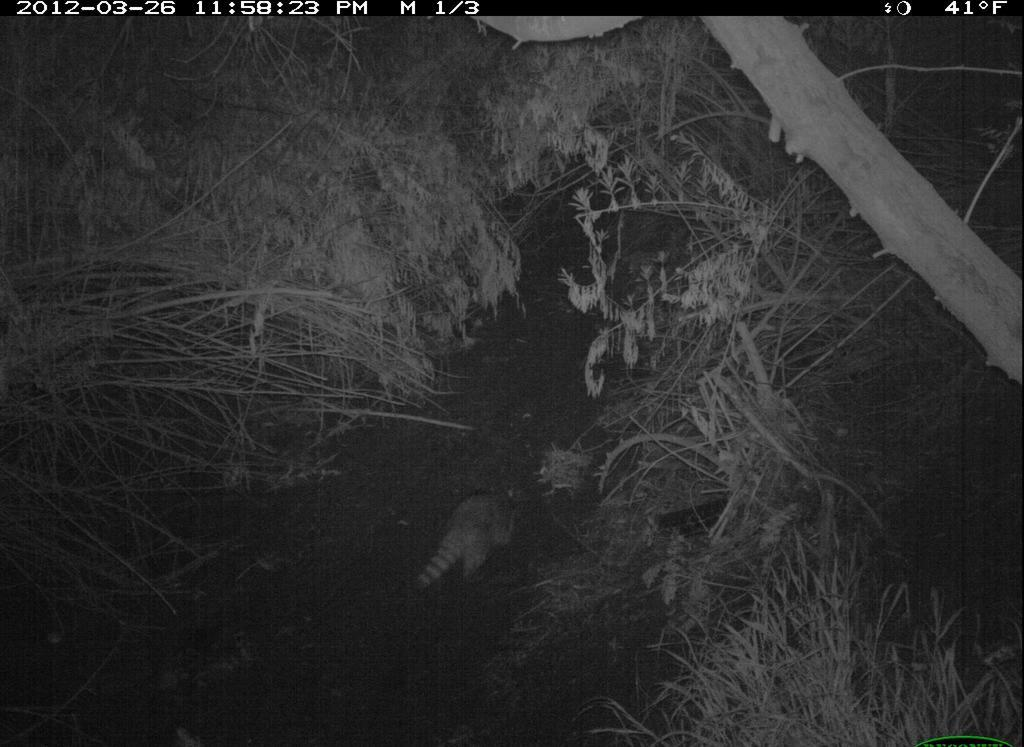raccoon: (409, 487, 542, 602)
